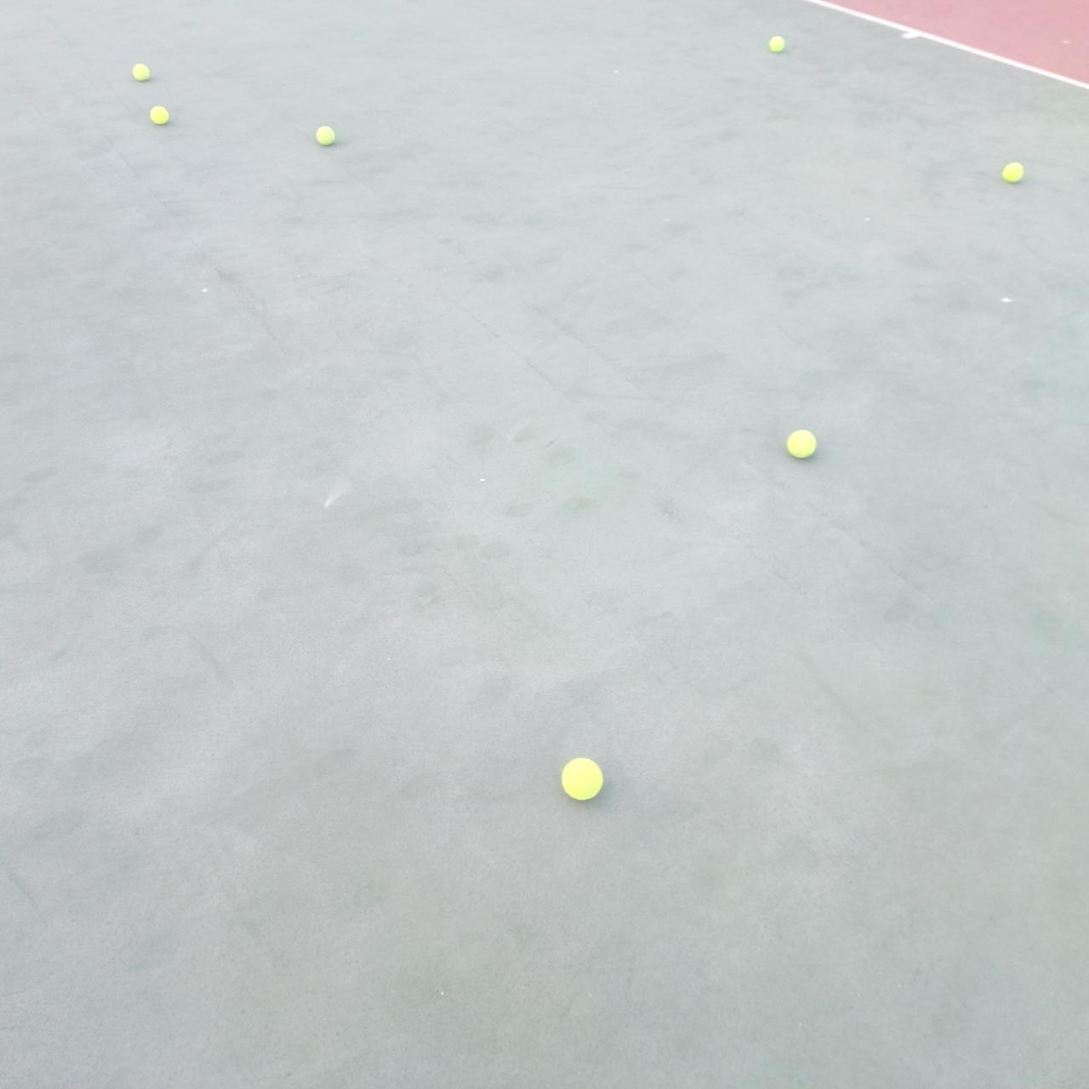tennis-ball: (561, 755, 605, 801), (787, 427, 818, 459), (1003, 159, 1026, 183), (316, 123, 337, 145), (151, 103, 170, 124), (133, 61, 151, 81), (769, 33, 787, 53)
